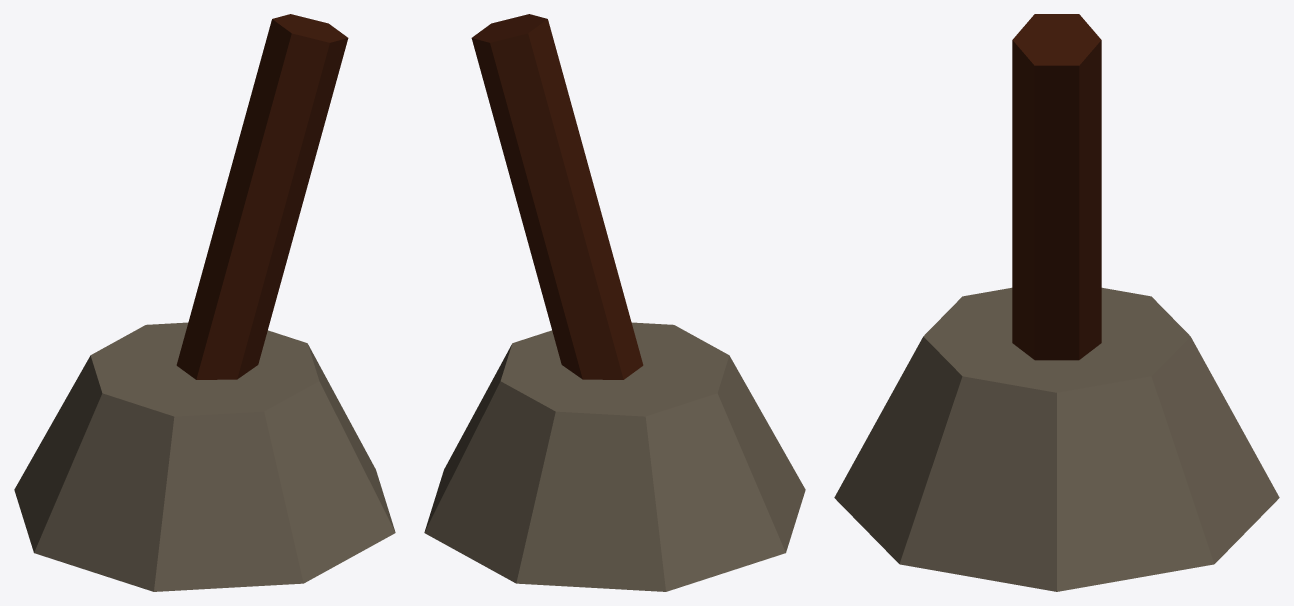
The model's file is mortar_pestle.obj.
3 views of the same model, side by side, from view 1: azimuth 30°, elevation 25°; view 2: azimuth 150°, elevation 25°; view 3: azimuth 270°, elevation 25° (orthographic). The views are drawn at different scales.
Parts seen in each view (by area): view 1: mortar_pestle; view 2: mortar_pestle; view 3: mortar_pestle.
Part boxes in pixels (left/top/right/bottom): mortar_pestle: left=14, top=14, right=395, bottom=591; mortar_pestle: left=424, top=14, right=805, bottom=591; mortar_pestle: left=834, top=14, right=1279, bottom=591.
Size of the model in its own units: 0.5 by 0.6516 by 0.5.
